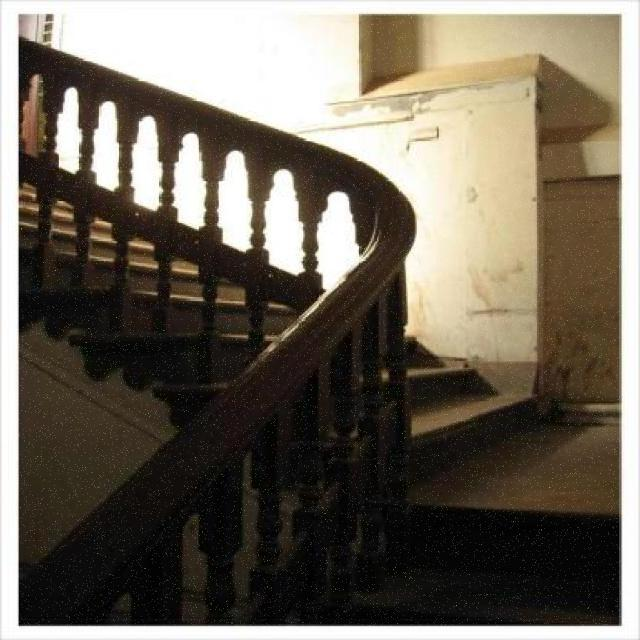stair: (15, 180, 532, 504), (296, 491, 620, 626)
